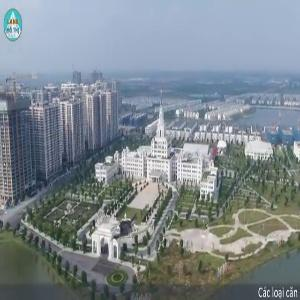drone: (104, 208, 151, 255)
